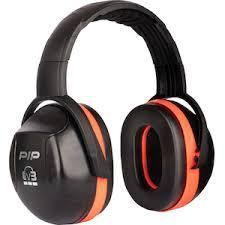Ear_protector: (7, 90, 119, 225), (123, 96, 214, 213)
